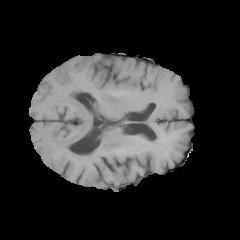glioma: (77, 135, 164, 164)
